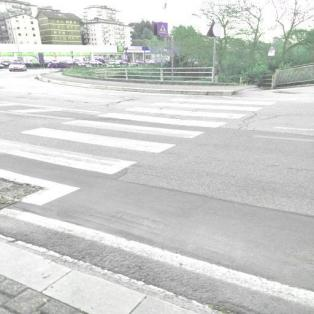Paso de Cebra: (19, 118, 215, 156)
